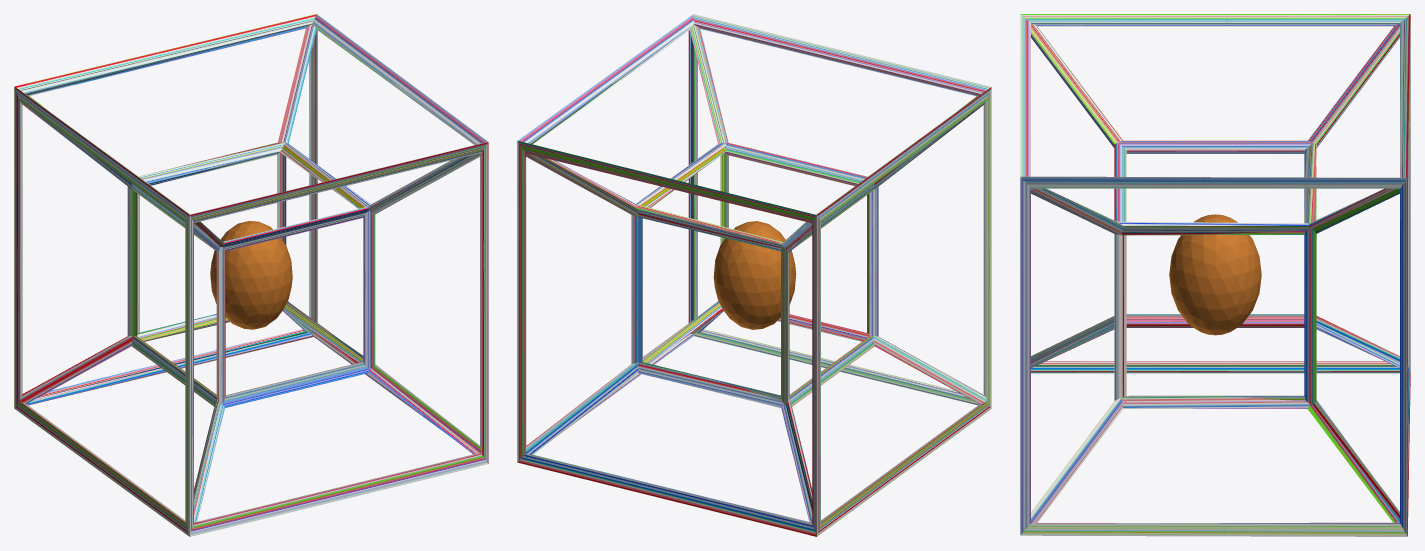
Rendered from nobelio.fbx.
3 renders of one model, left to right at view 1: azimuth 30°, elevation 25°; view 2: azimuth 150°, elevation 25°; view 3: azimuth 270°, elevation 25°, orthographic. The views are drawn at different scales.
Visible parts, largest first — view 1: nivel energetico, Nobelio; view 2: nivel energetico, Nobelio; view 3: nivel energetico, Nobelio.
Boxes of the visible parts, x1,y1,x2,y2 form: nivel energetico: (14,14,488,536); Nobelio: (210,221,292,329); nivel energetico: (517,14,991,536); Nobelio: (713,221,796,329); nivel energetico: (1020,14,1410,536); Nobelio: (1169,214,1261,335).
Bounding box in the file's own units: 25.25 × 25.82 × 25.44.
2 materials, 2 textured.
